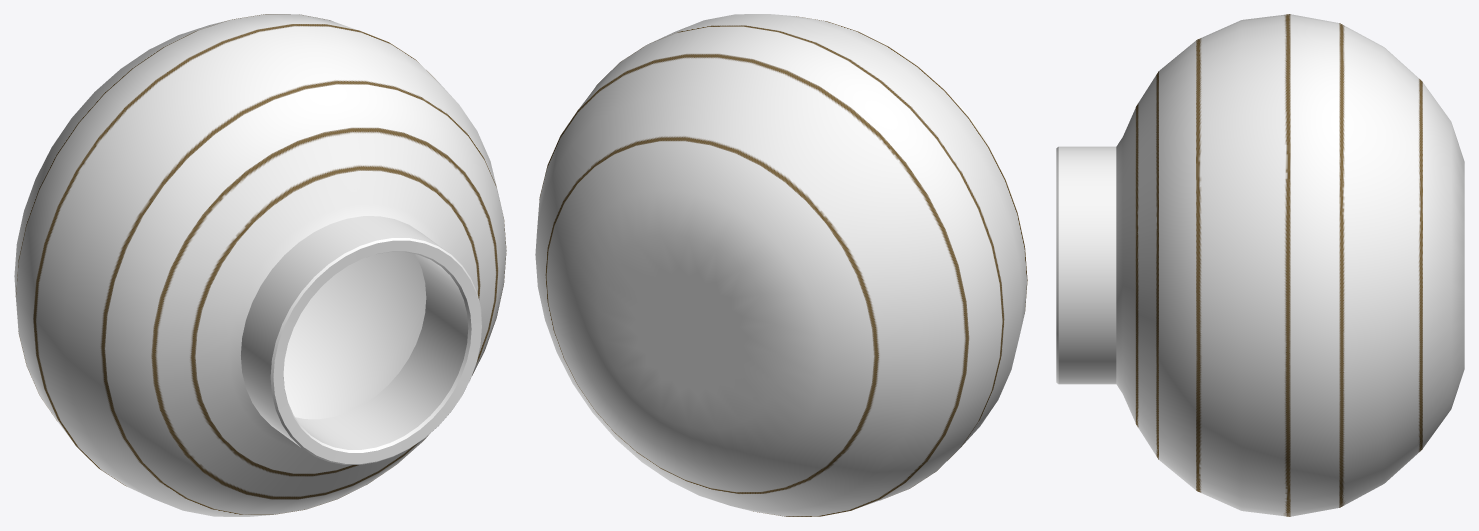
3 renders of one model, left to right at view 1: azimuth 30°, elevation 25°; view 2: azimuth 150°, elevation 25°; view 3: azimuth 270°, elevation 25°, orthographic. The views are drawn at different scales.
Visible parts, largest first — view 1: mk2, mk2-2; view 2: mk2, mk2-2; view 3: mk2-2, mk2.
Part boxes in pixels (x1,y1,x2,y2): mk2: (16,14,506,514); mk2-2: (14,14,506,516); mk2: (546,26,1002,506); mk2-2: (535,14,1027,516); mk2-2: (1135,14,1422,516); mk2: (1056,14,1464,516).
Bounding box in the file's own units: 60.93 × 60.93 × 49.45.
Materials: 2 (2 with a texture image).
